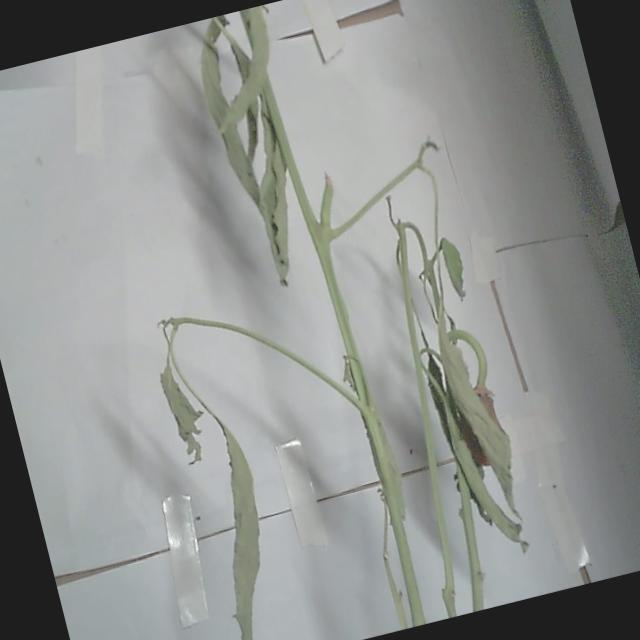Leaf: (424, 309, 532, 540), (190, 431, 294, 640), (186, 17, 280, 234), (152, 348, 214, 464)
